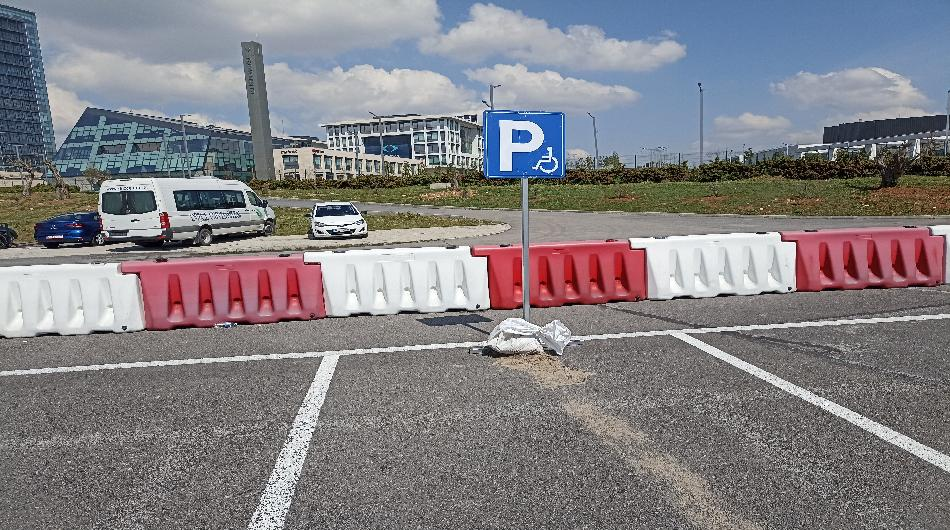engelli_park: (484, 110, 564, 178)
